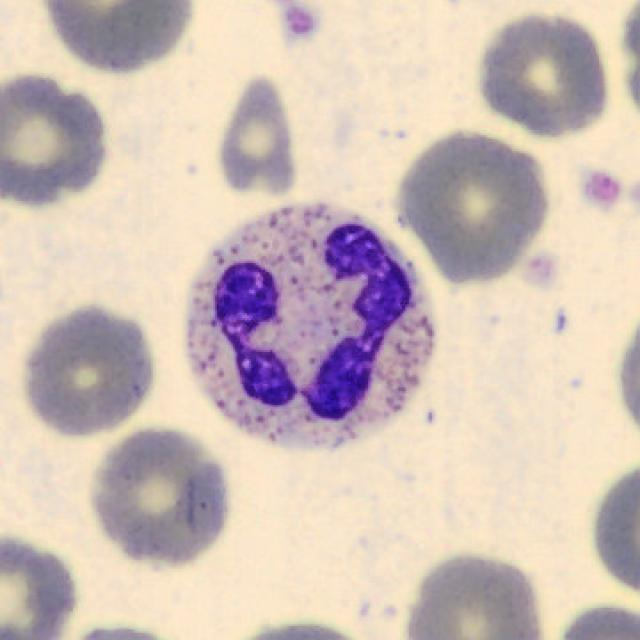Neutrofilo segmentado: (183, 204, 436, 452)
